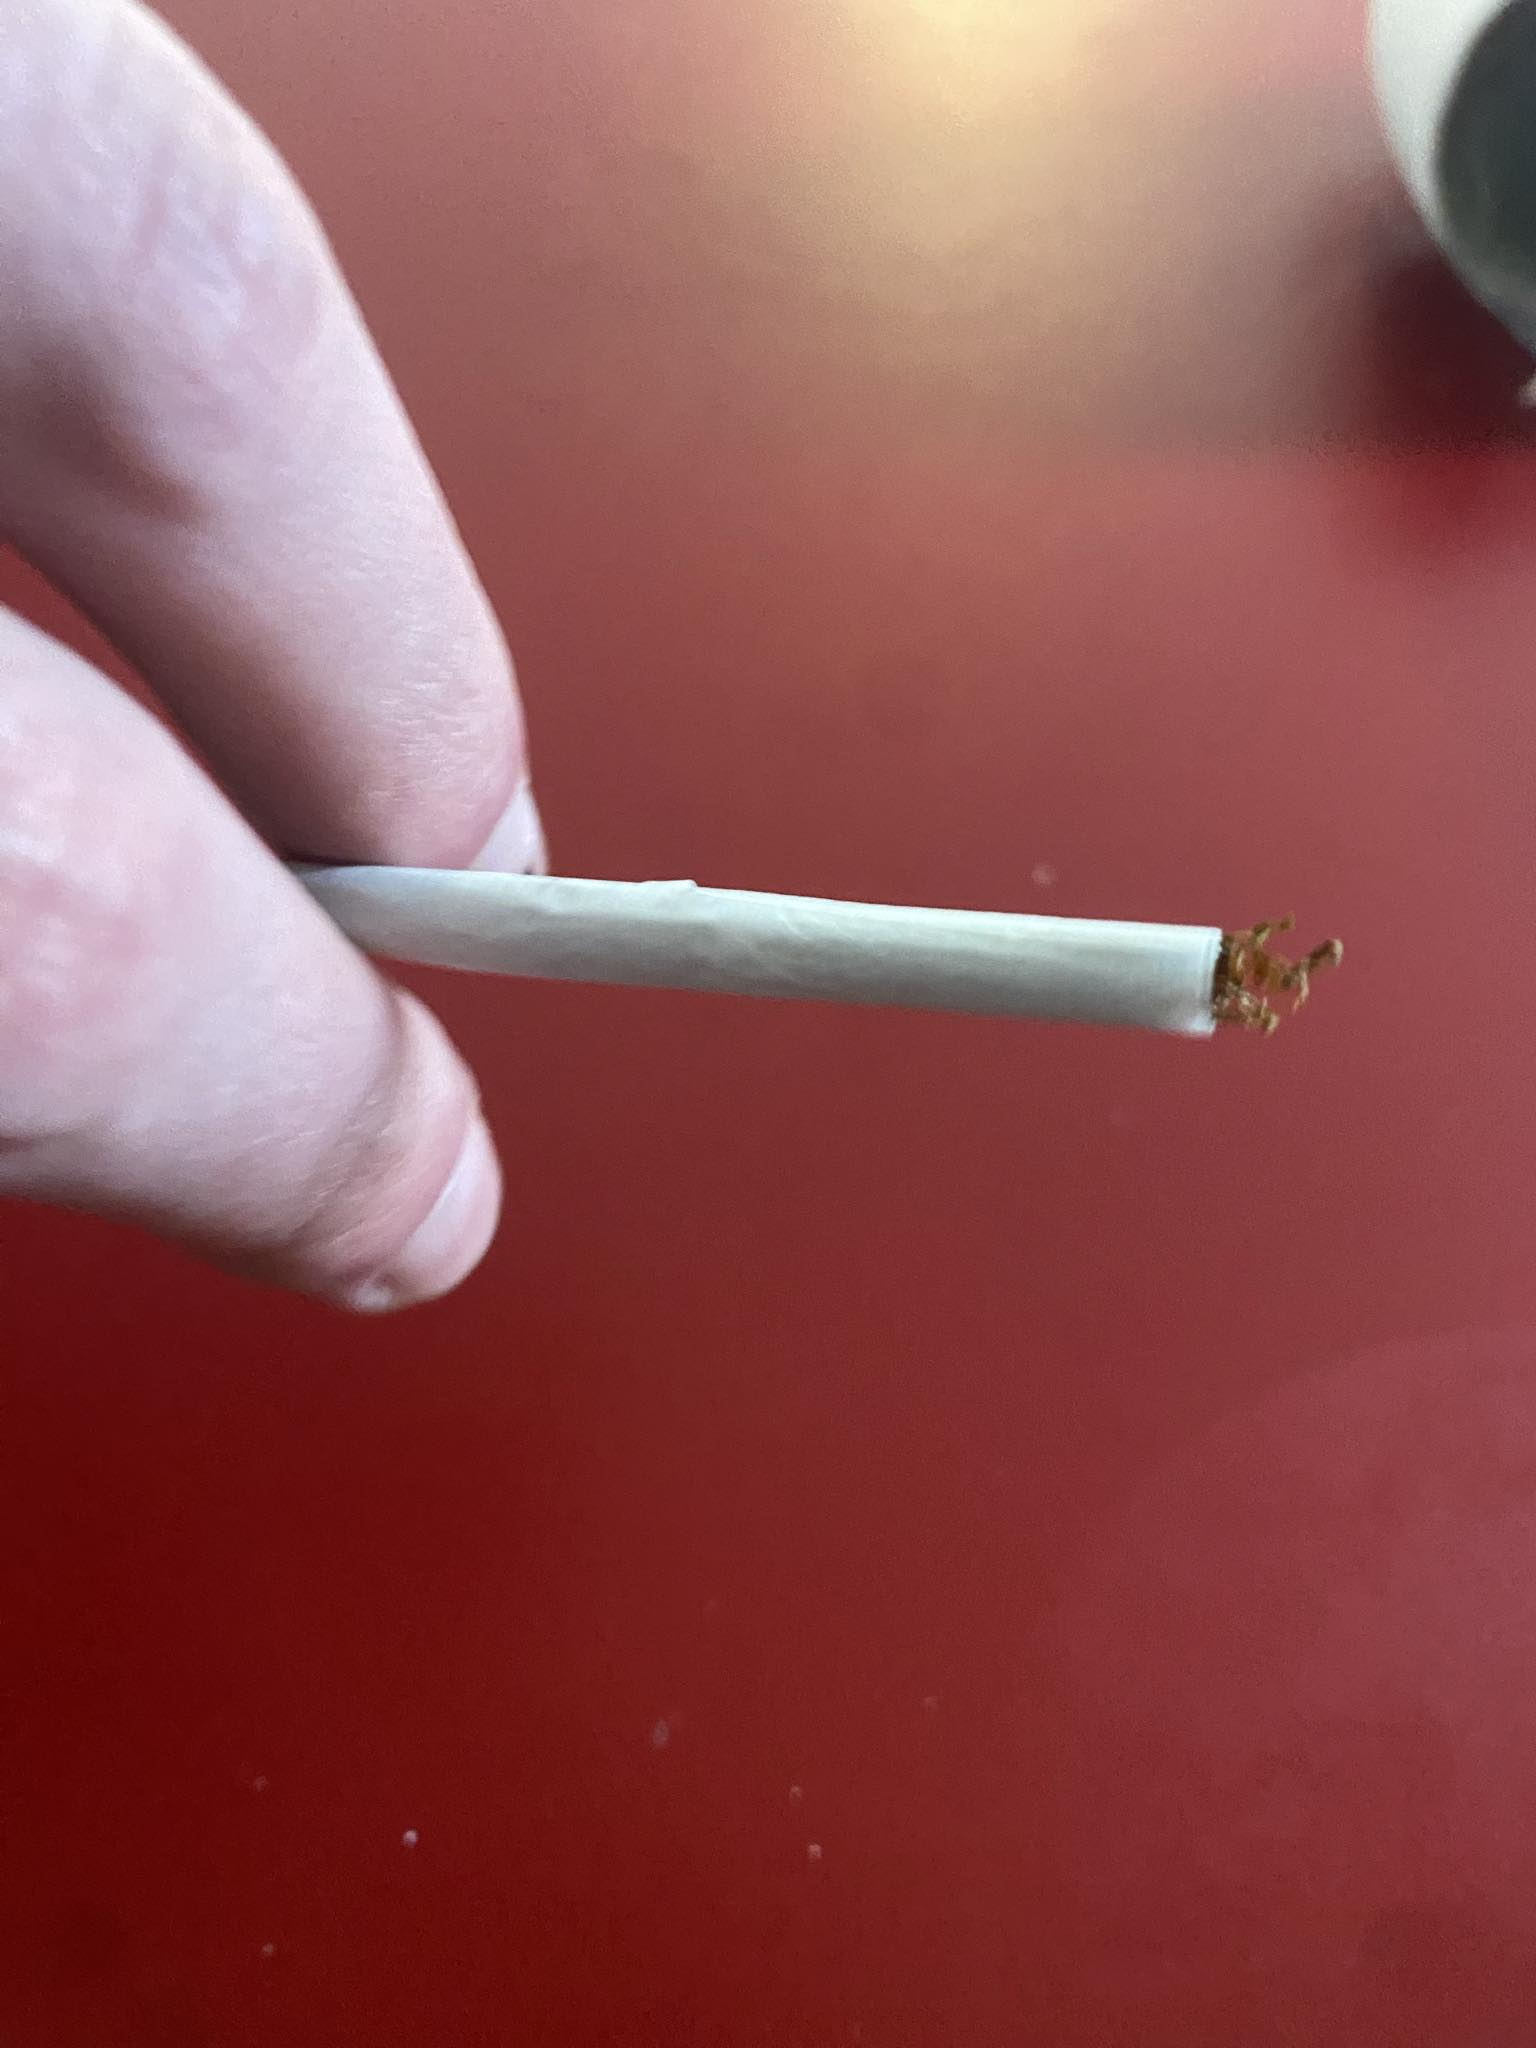Cigarette: (300, 866, 1349, 1045)
